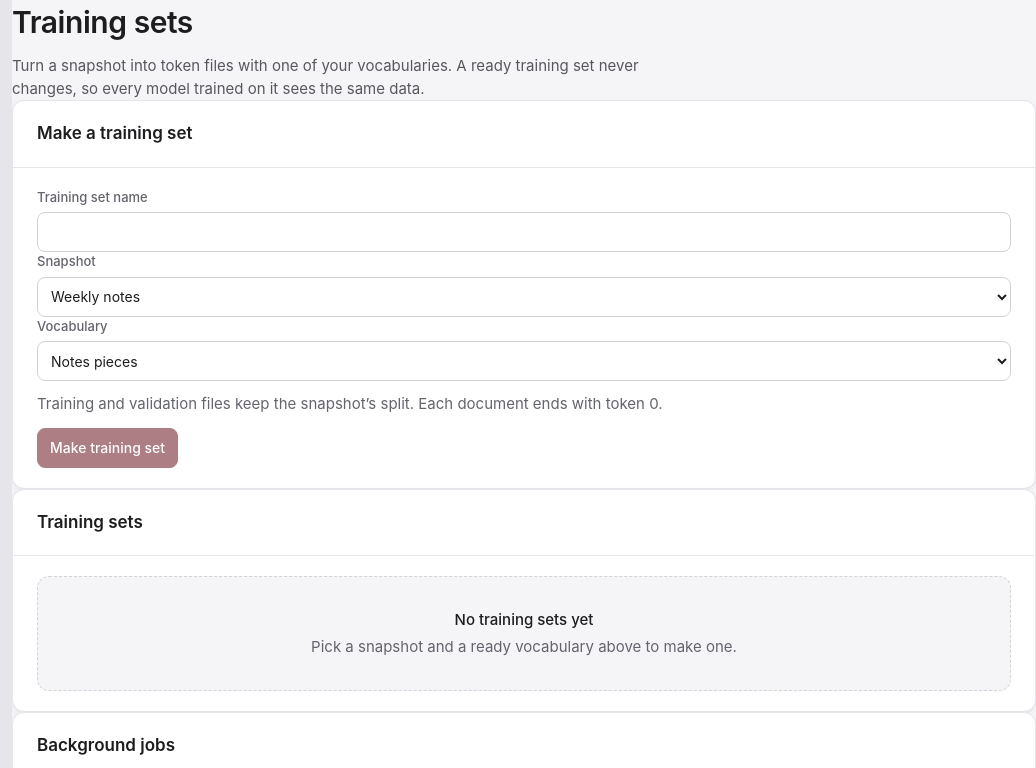
Test: makes a training set from a snapshot and a ready vocabulary
Type "Notes tokens" into the field labelled "Training set name" at (524, 232), box [37,212,1011,252]
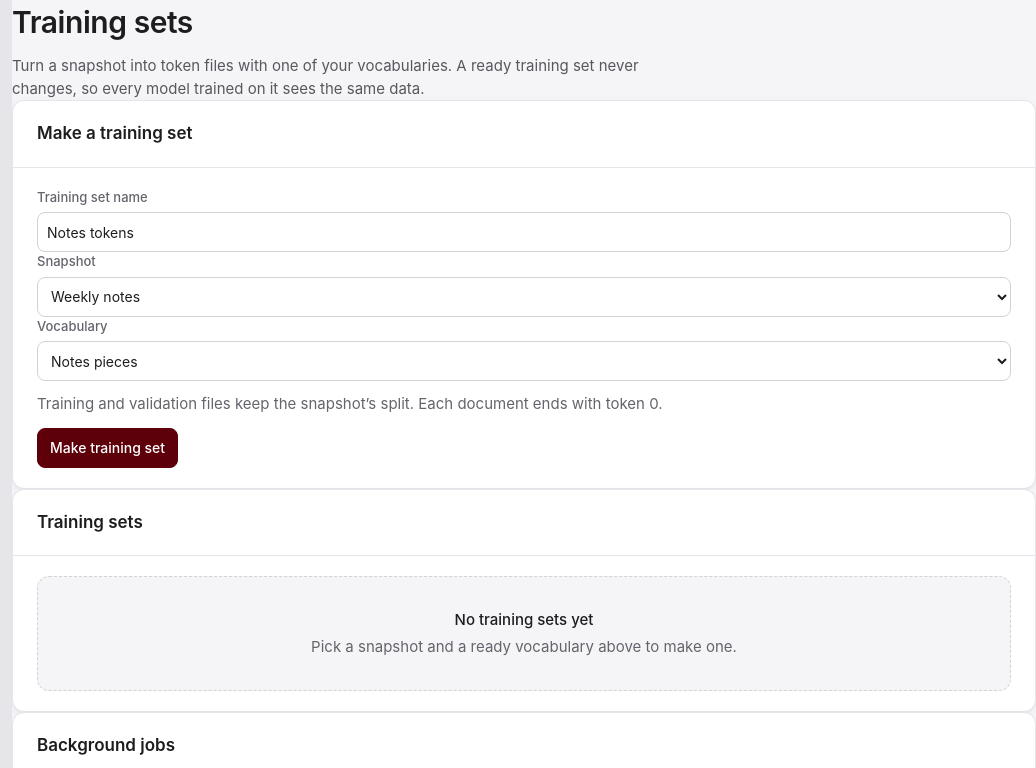
Click the button "Make training set" at (108, 448), box [37,428,178,468]
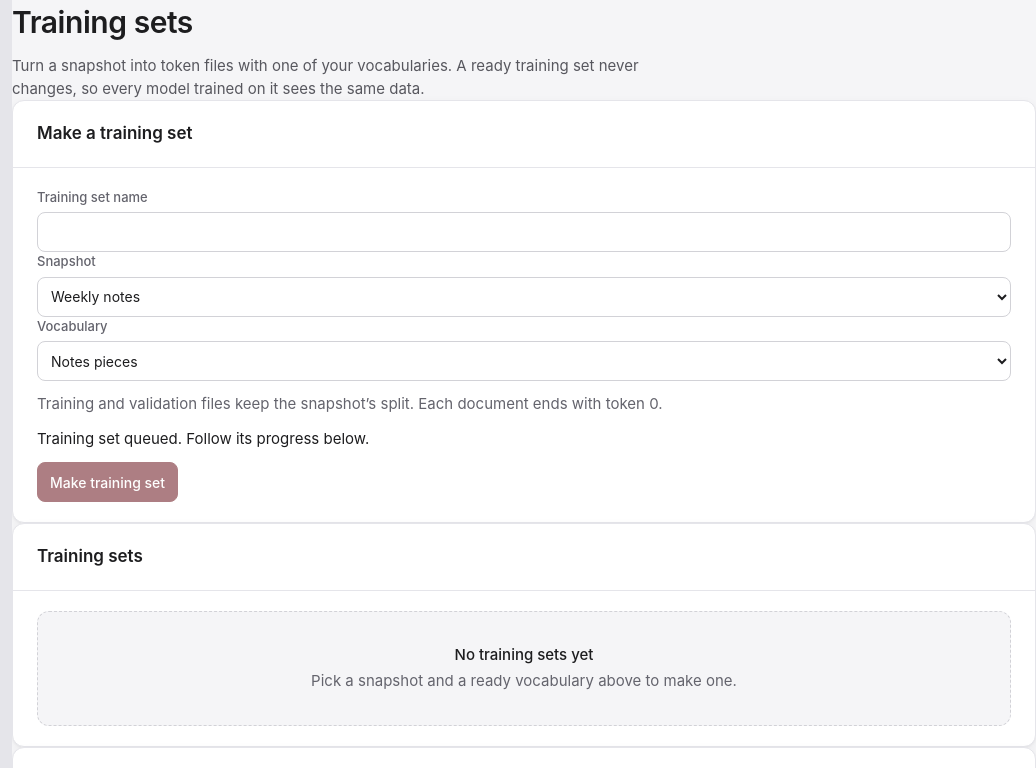
Now the text "Training set queued. Follow its progress below." is shown, box [37,428,369,448]
